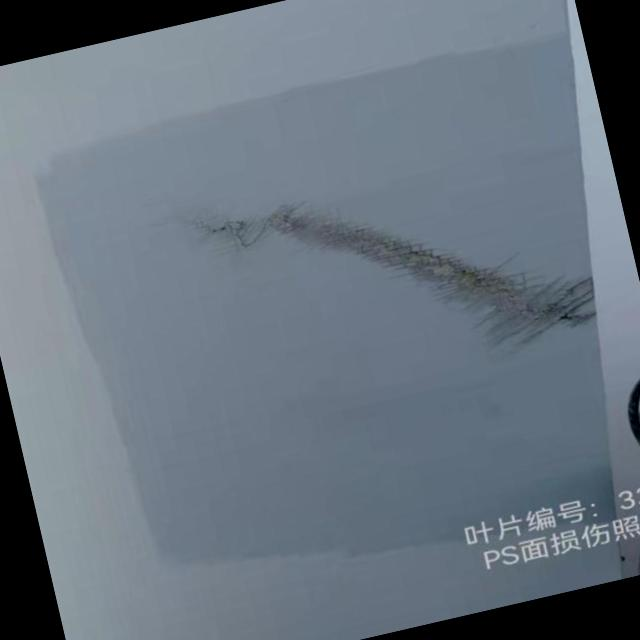crack: (264, 150, 582, 386)
